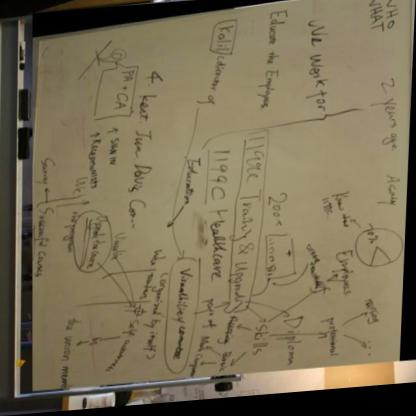Handwritten text: (130, 85, 160, 220), (194, 24, 238, 109), (373, 98, 403, 214), (258, 14, 290, 122), (302, 21, 334, 125), (229, 189, 269, 252), (170, 265, 195, 363), (52, 313, 82, 390), (144, 267, 170, 355), (34, 200, 58, 282), (201, 257, 225, 334), (178, 147, 205, 213), (327, 250, 355, 309), (279, 315, 307, 373), (324, 185, 354, 233), (231, 259, 253, 312), (321, 315, 343, 367), (85, 138, 106, 191), (62, 207, 82, 259), (34, 150, 62, 187), (105, 339, 131, 377), (367, 0, 387, 44), (362, 298, 384, 335), (249, 324, 271, 360), (111, 226, 129, 268), (137, 272, 159, 303), (105, 137, 123, 174), (385, 0, 401, 40), (148, 242, 169, 271), (70, 170, 91, 194), (217, 348, 235, 376), (120, 318, 144, 339), (187, 356, 205, 382), (112, 91, 132, 112), (120, 68, 136, 89), (197, 335, 212, 356)
Whiteboard: (26, 0, 414, 394)
